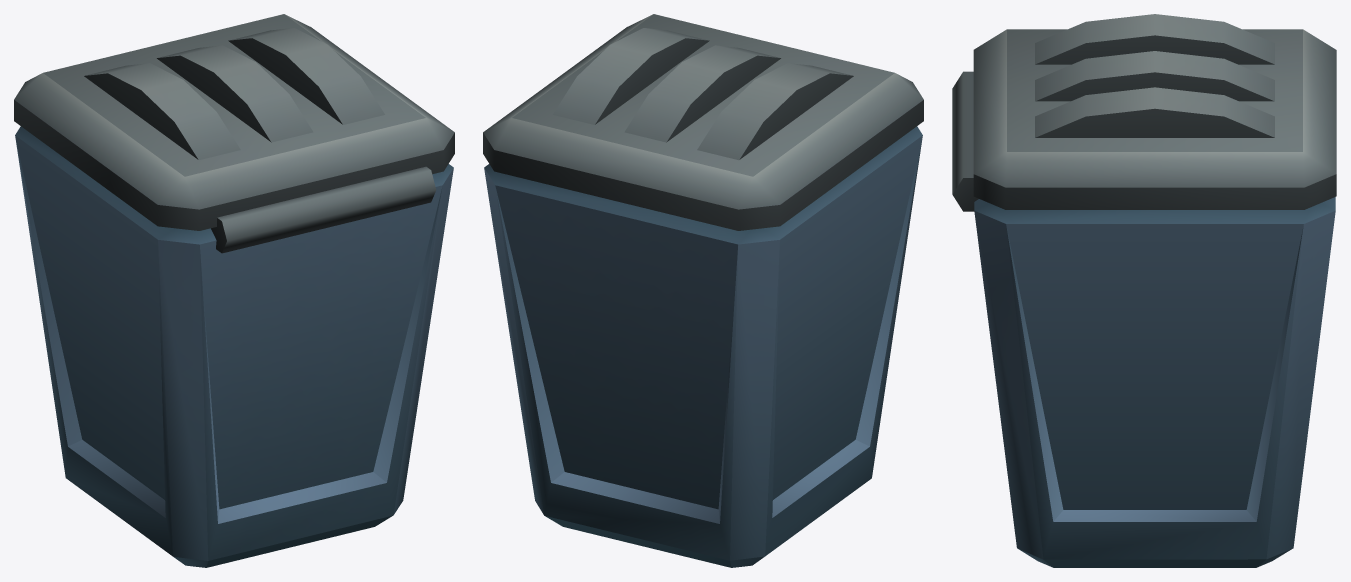
Rendered from Trash_Container_4B.fbx.
3 renders of one model, left to right at view 1: azimuth 30°, elevation 25°; view 2: azimuth 150°, elevation 25°; view 3: azimuth 270°, elevation 25°, orthographic. The views are drawn at different scales.
Parts seen in each view (by area): view 1: Trash_Container_4B, Trash_Container_4B_Lid; view 2: Trash_Container_4B, Trash_Container_4B_Lid; view 3: Trash_Container_4B, Trash_Container_4B_Lid.
Boxes of the visible parts, x1,y1,x2,y2 form: Trash_Container_4B: (15, 126, 453, 567); Trash_Container_4B_Lid: (14, 14, 454, 230); Trash_Container_4B: (484, 126, 922, 567); Trash_Container_4B_Lid: (483, 14, 923, 230); Trash_Container_4B: (952, 71, 1335, 567); Trash_Container_4B_Lid: (973, 14, 1336, 209).
Size of the model in its own units: 104 by 146 by 111.
